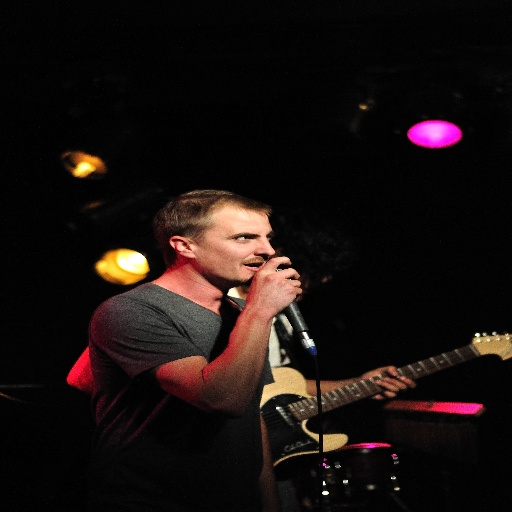hand: (235, 264, 316, 341), (354, 363, 415, 402)
